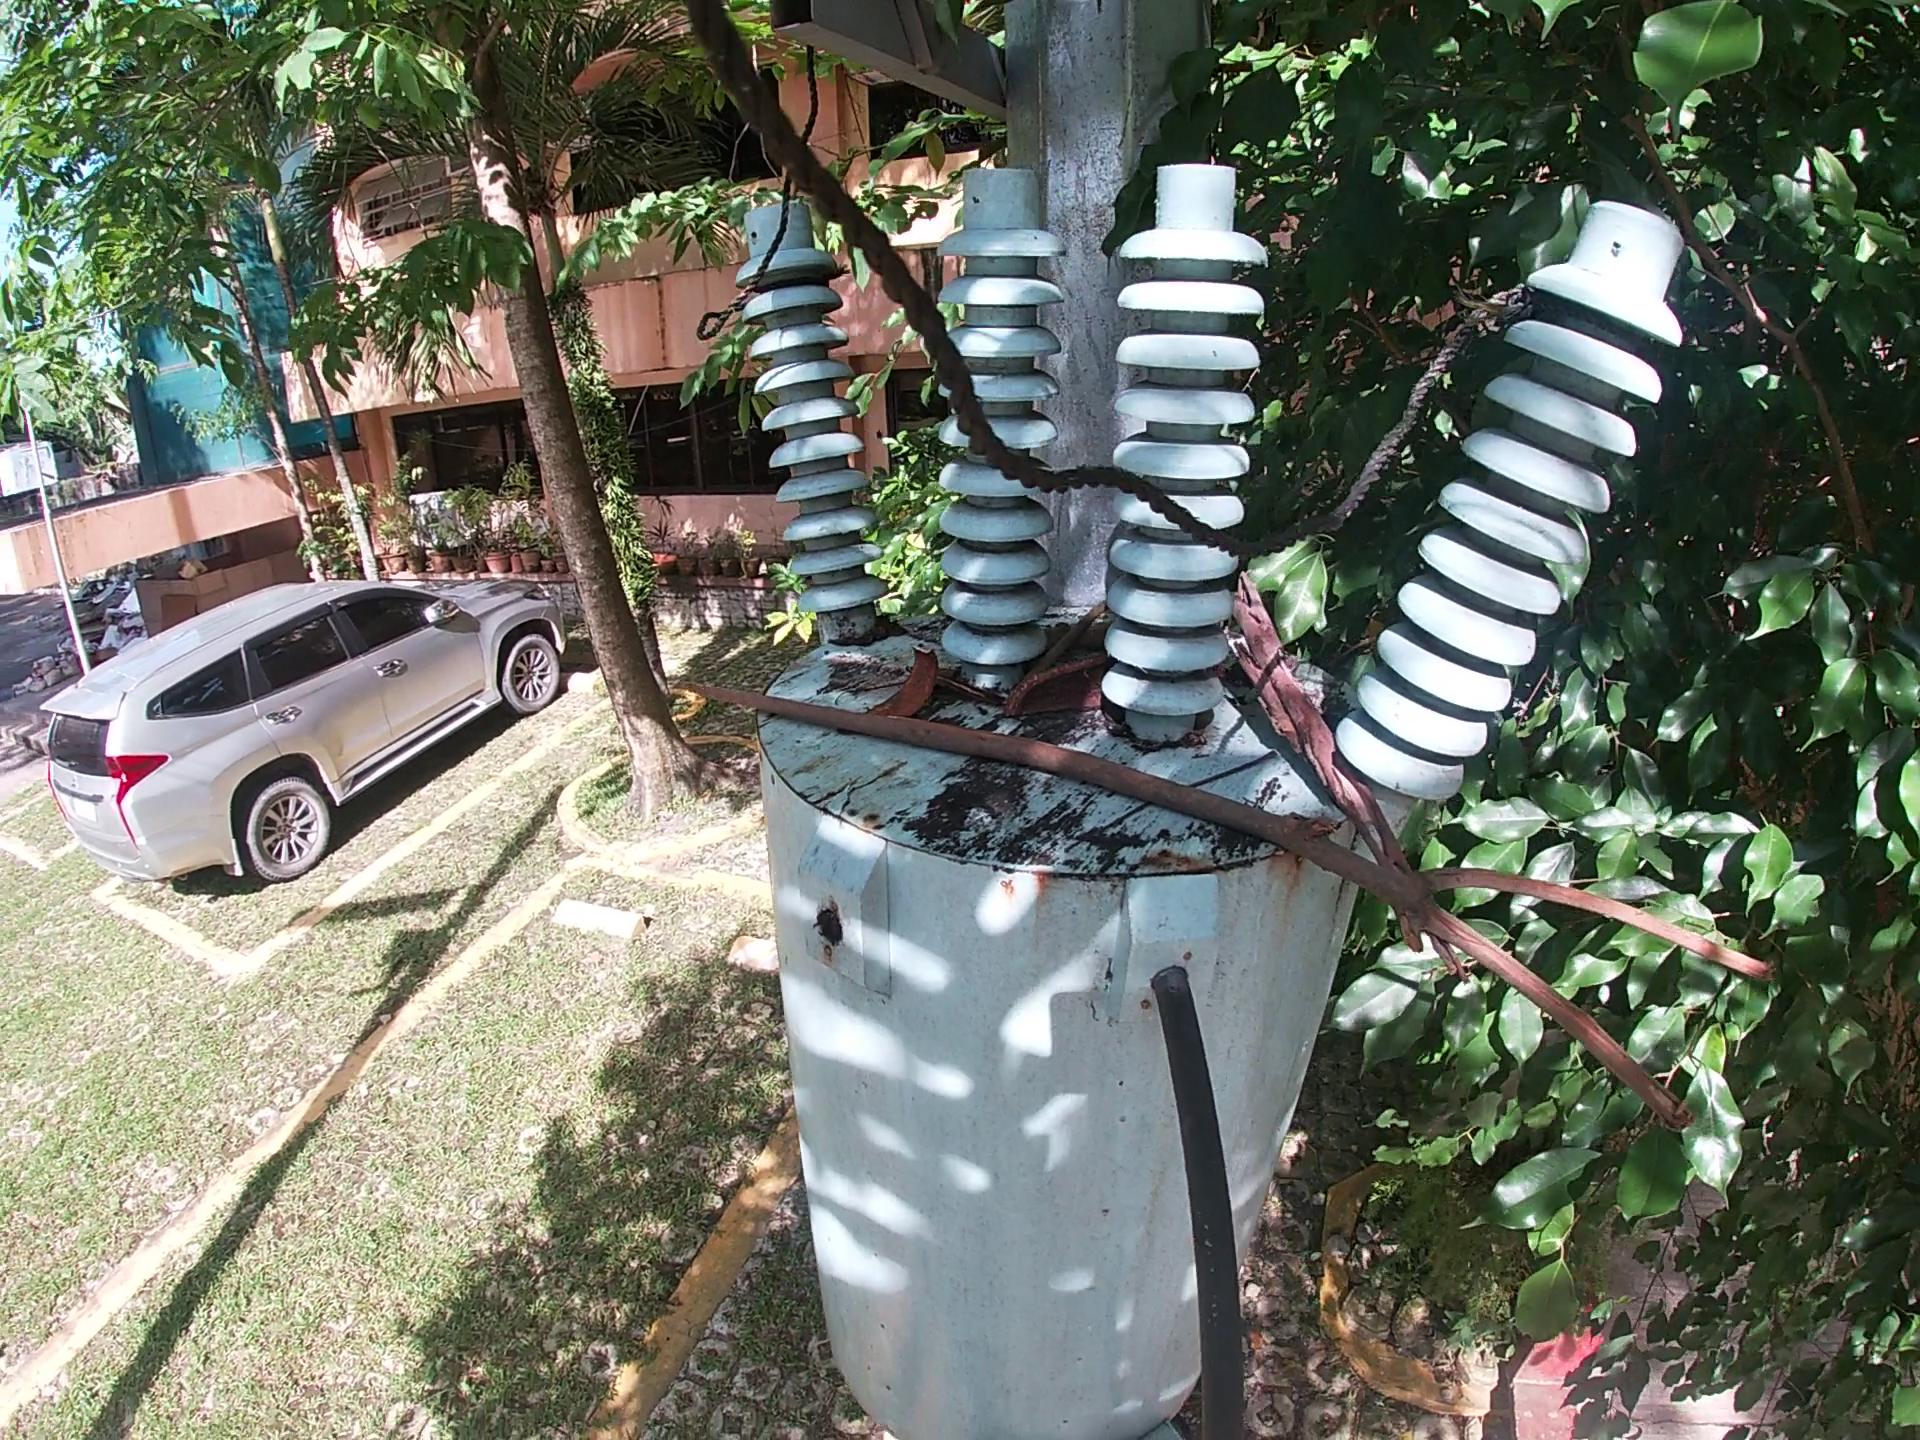mahogany fruit: (989, 663, 1125, 717), (875, 647, 971, 711)
tree branch: (683, 675, 1825, 1141), (1215, 573, 1401, 867), (1070, 746, 1274, 853), (1042, 601, 1105, 669), (943, 678, 1001, 714)
